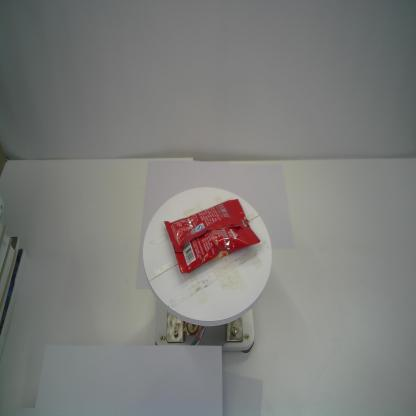Instant Drink: (164, 198, 262, 274)
